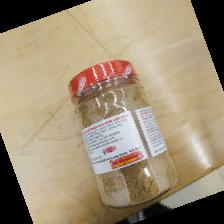Hao_hao: (68, 59, 178, 208)
